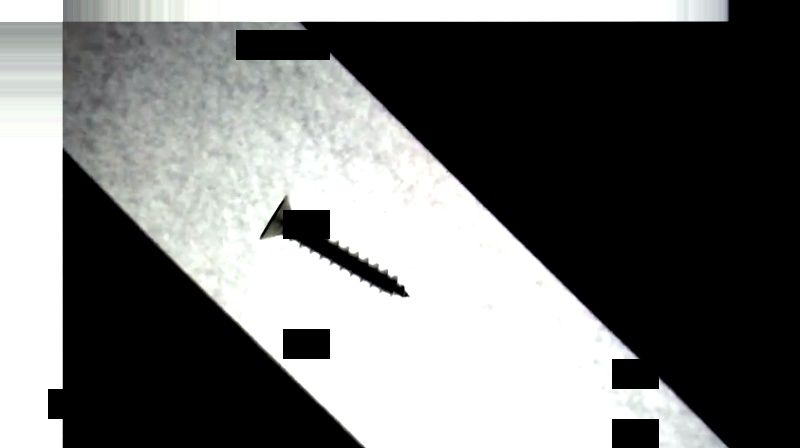S001: (253, 192, 414, 304)
